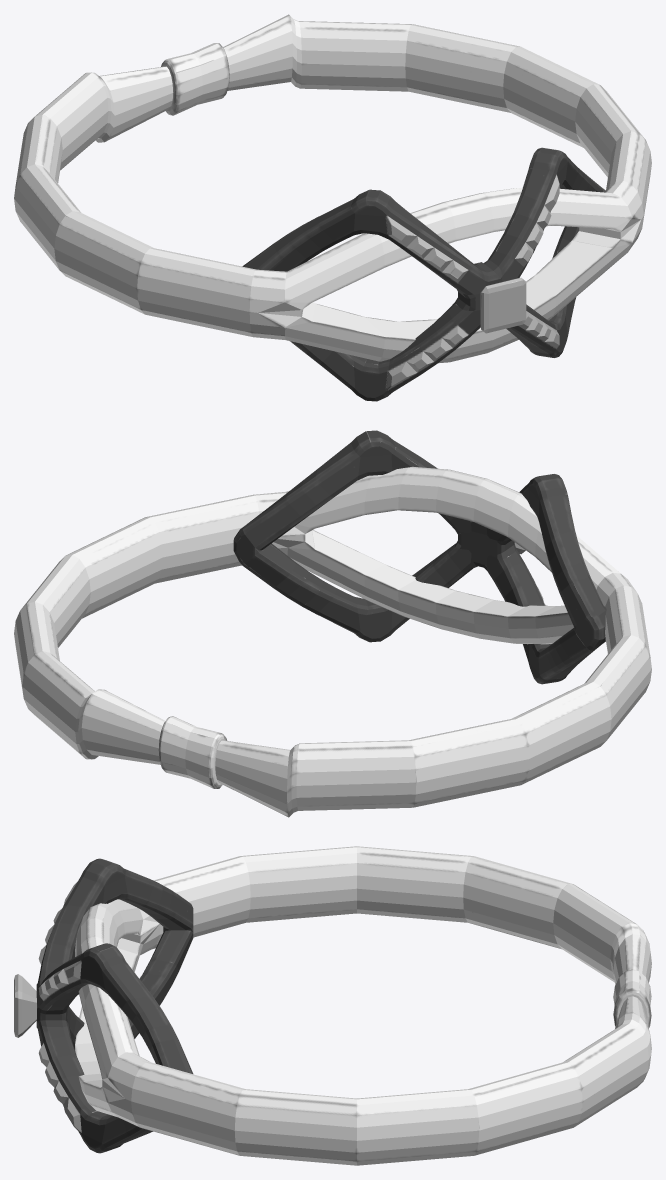
File: infinity_symbol_ring.glb
The picture shows the model from 3 angles, top to bottom: view 1: azimuth 30°, elevation 25°; view 2: azimuth 150°, elevation 25°; view 3: azimuth 270°, elevation 25°; orthographic projection.
Visible parts, largest first — view 1: Cube; view 2: Cube; view 3: Cube.
Part boxes in pixels (x1,y1,x2,y2): Cube: [14, 14, 651, 401]; Cube: [14, 430, 651, 817]; Cube: [14, 846, 651, 1165].
Size of the model in its own units: 214 by 74.65 by 214.
1 material, 1 textured.
